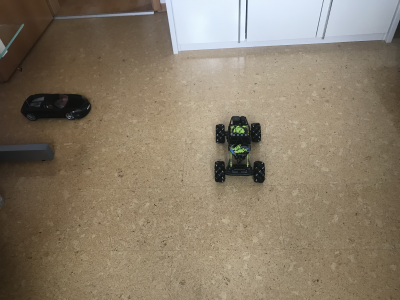remote control car: (210, 114, 268, 188)
